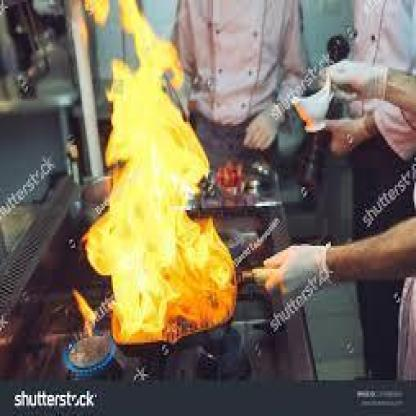Fire: (60, 4, 240, 343)
